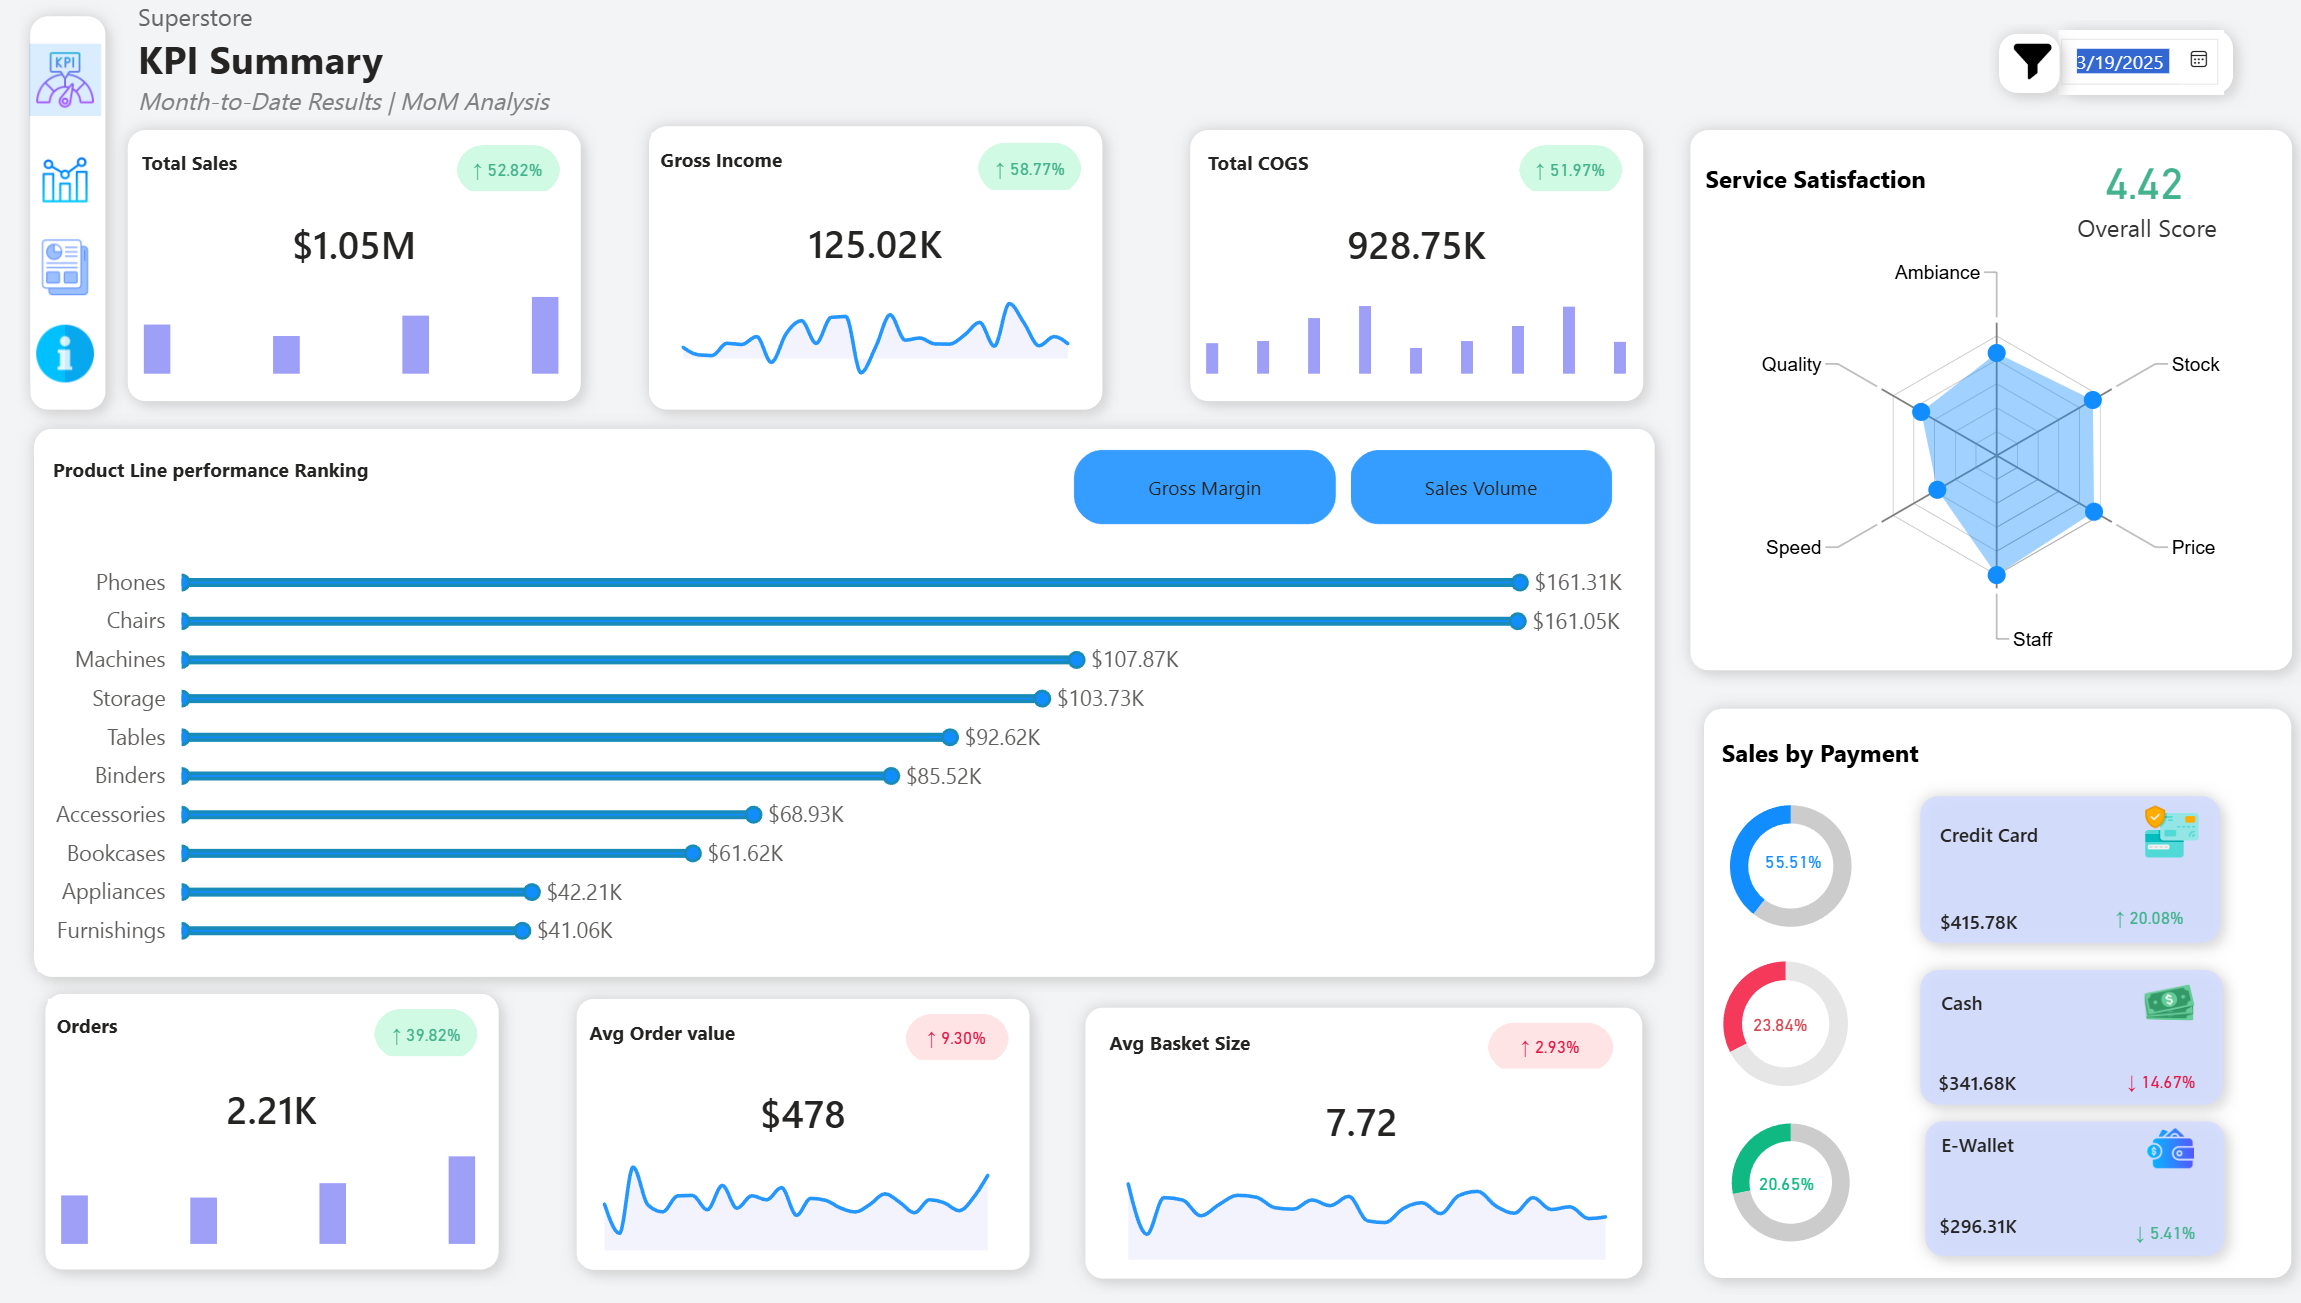

The page's visual inventory and layout, read from the dashboard file:
{"tool":"powerbi","page":{"name":"KPI Overview","canvas":[1280,720],"ordinal":0},"visuals":[{"type":"shape","title":"Shape_base","box":[8,0,59.7,236.1],"z":0,"group":"g14"},{"type":"shape","box":[1131.5,7.5,115.9,53.4],"z":0,"group":"g11"},{"type":"shape","box":[351.1,60.9,269.3,175.1],"z":0,"group":"g8"},{"type":"shape","box":[62.5,63.3,269.2,168.3],"z":0,"group":"g10"},{"type":"shape","box":[651.7,63.3,269.2,168.3],"z":0,"group":"g7"},{"type":"shape","box":[928.3,63.3,351.7,317.5],"z":0,"group":"g6"},{"type":"shape","box":[11.7,230.1,916.4,321.9],"z":0,"group":"g5"},{"type":"group","id":"g1","title":"Sales by Payment","box":[936,384,344,336],"z":0},{"type":"shape","box":[936,384,343.6,333.6],"z":0,"group":"g1"},{"type":"shape","box":[1055.8,432.3,184.1,99.3],"z":0,"group":"g9"},{"type":"shape","box":[1056,529,185.7,92.6],"z":0,"group":"g13"},{"type":"shape","box":[16.7,542,269.3,170.9],"z":0,"group":"g4"},{"type":"shape","box":[592.9,543.7,326.8,168.3],"z":0,"group":"g2"},{"type":"shape","box":[311,544.5,269.2,168.3],"z":0,"group":"g3"},{"type":"shape","box":[1058.4,612.4,183.9,92.6],"z":0,"group":"g12"},{"type":"slicer","fields":{"Values":["Date.Date"]},"box":[1041.5,16.7,191.8,35.9],"z":1000,"group":"g11"},{"type":"shape","box":[542.2,78.8,57.5,28.6],"z":1000,"group":"g8"},{"type":"shape","box":[253.5,80.5,57.5,27.5],"z":1000,"group":"g10"},{"type":"shape","box":[842.7,80.5,57.5,27.5],"z":1000,"group":"g7"},{"type":"textbox","box":[940.9,85.5,194.3,39.3],"z":1000,"group":"g6"},{"type":"actionButton","title":"Info","box":[16,176,40,40],"z":1000,"group":"g14"},{"type":"textbox","box":[26.4,247,466.6,37.8],"z":1000,"group":"g5"},{"type":"textbox","box":[949.8,403.3,189.8,40.9],"z":1000,"group":"g1"},{"type":"kpi","fields":{"TrendLine":["Date.Date.Variation.Date Hierarchy.Year"],"Indicator":["Orders.Payment Share Change"]},"box":[1163.4,496.3,56,24],"z":1000,"group":"g9"},{"type":"image","box":[1186.2,538.2,33.4,35.9],"z":1000,"group":"g13"},{"type":"group","id":"g2","title":"Avg Basket size KPI","box":[592.9,543.7,326.9,167.6],"z":1000},{"type":"shape","box":[207.8,559.5,57.5,27.9],"z":1000,"group":"g4"},{"type":"shape","box":[824.8,560.9,69.8,27.5],"z":1000,"group":"g2"},{"type":"shape","box":[502,561.7,57.5,27.5],"z":1000,"group":"g3"},{"type":"image","box":[1189,619.8,29.6,32.8],"z":1000,"group":"g12"},{"type":"shape","box":[1032.3,16.7,109.2,37.5],"z":2000,"group":"g11"},{"type":"cardVisual","fields":{"Data":["Orders.Gross Income"]},"box":[359.8,100.7,251.2,64.6],"z":2000,"group":"g8"},{"type":"cardVisual","fields":{"Data":["Orders.Total Sales"]},"box":[71.2,101.6,251,62.1],"z":2000,"group":"g10"},{"type":"cardVisual","fields":{"Data":["Orders.Total COGS"]},"box":[660.4,101.6,251,62.1],"z":2000,"group":"g7"},{"type":"textbox","box":[1115.7,112.2,150.3,29.2],"z":2000,"group":"g6"},{"type":"barChart","fields":{"Category":["Orders.Sub-Category"],"Y":["Orders.Selected Ranking Metric"]},"box":[23,294.7,885.2,245.4],"z":2000,"group":"g5"},{"type":"donutChart","fields":{"Y":["Orders.Payment Remainder %","Orders.Payment Volume %"]},"box":[947.3,438.2,92.1,84.3],"z":2000,"group":"g1"},{"type":"image","box":[1188.9,443.9,29.3,33.4],"z":2000,"group":"g9"},{"type":"cardVisual","fields":{"Data":["Orders.Total Sales"],"Rows":["Orders.Payment Method"]},"box":[1036.3,541,120.6,85.1],"z":2000,"group":"g13"},{"type":"group","id":"g3","title":"Avg Order value KPI","box":[311,544.5,269.3,167.6],"z":2000},{"type":"cardVisual","fields":{"Data":["Orders.Total Orders"]},"box":[25.4,580.9,251.2,63],"z":2000,"group":"g4"},{"type":"cardVisual","fields":{"Data":["Orders.Avg Basket Size"]},"box":[603.5,582,304.8,62.1],"z":2000,"group":"g2"},{"type":"cardVisual","fields":{"Data":["Orders.Avg Order Value"]},"box":[319.7,582.8,251,62.1],"z":2000,"group":"g3"},{"type":"cardVisual","fields":{"Data":["Orders.Total Sales"],"Rows":["Orders.Payment Method"]},"box":[1036.3,619.1,121.4,83.4],"z":2000,"group":"g12"},{"type":"shape","box":[1099.5,9.5,51.7,50.9],"z":3000,"group":"g11"},{"type":"kpi","title":"Overall Score","fields":{"Indicator":["Orders.Overall Score"],"TrendLine":["Date.Date.Variation.Date Hierarchy.Year"]},"box":[1115,79,148.6,44.8],"z":3000,"group":"g6"},{"type":"actionButton","title":"Region","box":[16,80,40,40],"z":3000,"group":"g14"},{"type":"clusteredColumnChart","fields":{"Y":["Orders.Total Sales"],"Category":["Date.Date.Variation.Date Hierarchy.Quarter"]},"box":[75.6,147.5,243,66.3],"z":3000,"group":"g10"},{"type":"clusteredColumnChart","fields":{"Y":["Orders.Total COGS"],"Category":["Date.Date.Variation.Date Hierarchy.Year","Date.Date.Variation.Date Hierarchy.Quarter"]},"box":[664.8,147.5,243,66.3],"z":3000,"group":"g7"},{"type":"areaChart","fields":{"Y":["Orders.Gross Income"],"Category":["Date.Date.Variation.Date Hierarchy.Year","Date.Date.Variation.Date Hierarchy.Quarter","Date.Date.Variation.Date Hierarchy.Month"]},"box":[364.2,148.5,243.2,69],"z":3000,"group":"g8"},{"type":"advancedSlicerVisual","fields":{"Values":["Chart Metrics.Metric Name"]},"box":[592.6,245.9,309,51.3],"z":3000,"group":"g5"},{"type":"cardVisual","fields":{"Data":["Orders.Total Sales"],"Rows":["Orders.Payment Method"]},"box":[1035.4,448,123.8,79.3],"z":3000,"group":"g9"},{"type":"donutChart","fields":{"Y":["Orders.Payment Remainder %","Orders.Payment Volume %"]},"box":[947.3,522.4,86.4,90.1],"z":3000,"group":"g1"},{"type":"group","id":"g4","title":"Orders KPI","box":[16.7,542,269.3,170.9],"z":3000},{"type":"textbox","box":[27.2,553.9,110.9,27.6],"z":3000,"group":"g4"},{"type":"kpi","fields":{"TrendLine":["Date.Date.Variation.Date Hierarchy.Year"],"Indicator":["Orders.Payment Share Change"]},"box":[1173.3,591,49.7,18.4],"z":3000,"group":"g13"},{"type":"areaChart","fields":{"Category":["Date.Date.Variation.Date Hierarchy.Year","Date.Date.Variation.Date Hierarchy.Quarter","Date.Date.Variation.Date Hierarchy.Month"],"Y":["Orders.Avg Basket Size"]},"box":[611.1,630.7,294.7,66.7],"z":3000,"group":"g2"},{"type":"areaChart","fields":{"Category":["Date.Date.Variation.Date Hierarchy.Year","Date.Date.Variation.Date Hierarchy.Quarter","Date.Date.Variation.Date Hierarchy.Month"],"Y":["Orders.Avg Order Value"]},"box":[321,632.8,242.5,66.7],"z":3000,"group":"g3"},{"type":"kpi","fields":{"TrendLine":["Date.Date.Variation.Date Hierarchy.Year"],"Indicator":["Orders.Payment Share Change"]},"box":[1175.8,673.8,50.1,18],"z":3000,"group":"g12"},{"type":"image","box":[1114.5,18.5,25,29.2],"z":4000,"group":"g11"},{"type":"textbox","box":[361.6,73.1,110.9,28.2],"z":4000,"group":"g8"},{"type":"textbox","box":[73,75.1,110.8,27.2],"z":4000,"group":"g10"},{"type":"textbox","box":[662.2,75.1,110.8,27.2],"z":4000,"group":"g7"},{"type":"actionButton","title":"Order","box":[16,128,40,40],"z":4000,"group":"g14"},{"type":"RadarChart1446119667547","fields":{"Category":["Satisfaction Dimensions.Dimension"],"Y":["Orders.Radar Chart Values"]},"box":[948.8,140.4,315.6,224.6],"z":4000,"group":"g6"},{"type":"group","id":"g5","title":"Product LIne Distribution KPI","box":[11.7,230.1,916.4,321.9],"z":4000},{"type":"textbox","box":[605.7,555.5,134.5,27.2],"z":4000,"group":"g2"},{"type":"textbox","box":[321.5,556.3,110.8,27.2],"z":4000,"group":"g3"},{"type":"kpi","fields":{"TrendLine":["Date.Date.Variation.Date Hierarchy.Year"],"Indicator":["Orders.Orders YoY %"]},"box":[210.4,563.7,52.5,18.6],"z":4000,"group":"g4"},{"type":"donutChart","fields":{"Y":["Orders.Payment Remainder %","Orders.Payment Volume %"]},"box":[948.4,614.8,89.2,81.7],"z":4000,"group":"g1"},{"type":"actionButton","title":"KPI","box":[16,24,40,40],"z":4500,"group":"g14"},{"type":"group","id":"g6","title":"Service Satisfacation KPI","box":[928.3,63.3,351.7,317.5],"z":5000},{"type":"kpi","fields":{"TrendLine":["Date.Date.Variation.Date Hierarchy.Year"],"Indicator":["Orders.Gross Income YoY %"]},"box":[544.8,83.2,52.5,19.1],"z":5000,"group":"g8"},{"type":"kpi","fields":{"Indicator":["Orders.Sales YoY %"],"TrendLine":["Date.Date.Variation.Date Hierarchy.Year"]},"box":[256.1,84.7,52.5,18.3],"z":5000,"group":"g10"},{"type":"kpi","fields":{"Indicator":["Orders.COGS YoY %"],"TrendLine":["Date.Date.Variation.Date Hierarchy.Year"]},"box":[845.3,84.7,52.5,18.3],"z":5000,"group":"g7"},{"type":"kpi","fields":{"TrendLine":["Date.Date.Variation.Date Hierarchy.Year"],"Indicator":["Orders.Payment Volume %"]},"box":[976.6,467.4,35,21.7],"z":5000,"group":"g1"},{"type":"kpi","fields":{"TrendLine":["Date.Date.Variation.Date Hierarchy.Year"],"Indicator":["Orders.Basket Size YoY %"]},"box":[828,565.1,63.7,18.3],"z":5000,"group":"g2"},{"type":"kpi","fields":{"TrendLine":["Date.Date.Variation.Date Hierarchy.Year"],"Indicator":["Orders.AOV YoY %"]},"box":[504.6,565.9,52.5,18.3],"z":5000,"group":"g3"},{"type":"clusteredColumnChart","fields":{"Y":["Orders.Total Orders"],"Category":["Date.Date.Variation.Date Hierarchy.Quarter"]},"box":[30,627.5,242.7,68.5],"z":5000,"group":"g4"},{"type":"group","id":"g7","title":"Total COGS KPI","box":[651.7,63.3,269.2,168.3],"z":6000},{"type":"kpi","fields":{"TrendLine":["Date.Date.Variation.Date Hierarchy.Year"],"Indicator":["Orders.Payment Volume %"]},"box":[968.5,557.5,37.5,21.7],"z":6000,"group":"g1"},{"type":"group","id":"g8","title":"Gross Income KPI","box":[351.1,60.9,269.3,175.1],"z":7000},{"type":"group","id":"g9","title":"Credit card","box":[1035.4,432.3,204.5,99.3],"z":7000,"group":"g1"},{"type":"group","id":"g10","title":"Total Sale KPI","box":[62.5,63.3,269.2,168.3],"z":8000},{"type":"kpi","fields":{"TrendLine":["Date.Date.Variation.Date Hierarchy.Year"],"Indicator":["Orders.Payment Volume %"]},"box":[972,643.1,37.5,25.9],"z":8000,"group":"g1"},{"type":"group","id":"g11","title":"Date","box":[1032.3,7.5,215.1,53.4],"z":9000},{"type":"group","id":"g12","title":"Cash","box":[1036.3,612.4,206.1,92.6],"z":9000,"group":"g1"},{"type":"textbox","title":"Title","box":[72,0,256,64],"z":10000},{"type":"group","id":"g13","title":"E wallet","box":[1036.3,529,205.3,97.6],"z":10000,"group":"g1"},{"type":"group","id":"g14","title":"Navigation bar","box":[8,0,56,240],"z":12000}]}

Visuals, with their boxes in screenshot pixels (x1, y1, x2, y2), scaled from the page's 1280x720 canvas onto the 2301x1303 screenshot:
"Shape_base" shape: bbox=[14, 0, 122, 427]
shape: bbox=[2034, 14, 2242, 110]
shape: bbox=[631, 110, 1115, 427]
shape: bbox=[112, 115, 596, 419]
shape: bbox=[1172, 115, 1655, 419]
shape: bbox=[1669, 115, 2300, 689]
shape: bbox=[21, 416, 1668, 999]
"Sales by Payment" group: bbox=[1683, 695, 2300, 1302]
shape: bbox=[1683, 695, 2300, 1299]
shape: bbox=[1898, 782, 2229, 962]
shape: bbox=[1898, 957, 2232, 1125]
shape: bbox=[30, 981, 514, 1290]
shape: bbox=[1066, 984, 1653, 1289]
shape: bbox=[559, 985, 1043, 1290]
shape: bbox=[1903, 1108, 2233, 1276]
slicer - Date.Date: bbox=[1872, 30, 2217, 95]
shape: bbox=[975, 143, 1078, 194]
shape: bbox=[456, 146, 559, 195]
shape: bbox=[1515, 146, 1618, 195]
textbox: bbox=[1691, 155, 2041, 226]
"Info" actionButton: bbox=[29, 319, 101, 391]
textbox: bbox=[47, 447, 886, 515]
textbox: bbox=[1707, 730, 2049, 804]
kpi - Date.Date.Variation.Date Hierarchy.Year x Orders.Payment Share Change: bbox=[2091, 898, 2192, 942]
image: bbox=[2132, 974, 2192, 1039]
"Avg Basket size KPI" group: bbox=[1066, 984, 1653, 1287]
shape: bbox=[374, 1013, 477, 1063]
shape: bbox=[1483, 1015, 1608, 1065]
shape: bbox=[902, 1017, 1006, 1066]
image: bbox=[2137, 1122, 2191, 1181]
shape: bbox=[1856, 30, 2052, 98]
cardVisual - Orders.Gross Income: bbox=[647, 182, 1098, 299]
cardVisual - Orders.Total Sales: bbox=[128, 184, 579, 296]
cardVisual - Orders.Total COGS: bbox=[1187, 184, 1638, 296]
textbox: bbox=[2006, 203, 2276, 256]
barChart - Orders.Sub-Category x Orders.Selected Ranking Metric: bbox=[41, 533, 1633, 977]
donutChart - Orders.Payment Remainder % x Orders.Payment Volume %: bbox=[1703, 793, 1868, 946]
image: bbox=[2137, 803, 2190, 864]
cardVisual - Orders.Total Sales x Orders.Payment Method: bbox=[1863, 979, 2080, 1133]
"Avg Order value KPI" group: bbox=[559, 985, 1043, 1289]
cardVisual - Orders.Total Orders: bbox=[46, 1051, 497, 1165]
cardVisual - Orders.Avg Basket Size: bbox=[1085, 1053, 1633, 1166]
cardVisual - Orders.Avg Order Value: bbox=[575, 1055, 1026, 1167]
cardVisual - Orders.Total Sales x Orders.Payment Method: bbox=[1863, 1120, 2081, 1271]
shape: bbox=[1977, 17, 2069, 109]
"Overall Score" kpi: bbox=[2004, 143, 2272, 224]
"Region" actionButton: bbox=[29, 145, 101, 217]
clusteredColumnChart - Orders.Total Sales x Date.Date.Variation.Date Hierarchy.Quarter: bbox=[136, 267, 573, 387]
clusteredColumnChart - Orders.Total COGS x Date.Date.Variation.Date Hierarchy.Year: bbox=[1195, 267, 1632, 387]
areaChart - Orders.Gross Income x Date.Date.Variation.Date Hierarchy.Year: bbox=[655, 269, 1092, 394]
advancedSlicerVisual - Chart Metrics.Metric Name: bbox=[1065, 445, 1621, 538]
cardVisual - Orders.Total Sales x Orders.Payment Method: bbox=[1861, 811, 2084, 954]
donutChart - Orders.Payment Remainder % x Orders.Payment Volume %: bbox=[1703, 945, 1858, 1108]
"Orders KPI" group: bbox=[30, 981, 514, 1290]
textbox: bbox=[49, 1002, 248, 1052]
kpi - Date.Date.Variation.Date Hierarchy.Year x Orders.Payment Share Change: bbox=[2109, 1070, 2199, 1103]
areaChart - Date.Date.Variation.Date Hierarchy.Year x Date.Date.Variation.Date Hierarchy.Quarter: bbox=[1099, 1141, 1628, 1262]
areaChart - Date.Date.Variation.Date Hierarchy.Year x Date.Date.Variation.Date Hierarchy.Quarter: bbox=[577, 1145, 1013, 1266]
kpi - Date.Date.Variation.Date Hierarchy.Year x Orders.Payment Share Change: bbox=[2114, 1219, 2204, 1252]
image: bbox=[2003, 33, 2048, 86]
textbox: bbox=[650, 132, 849, 183]
textbox: bbox=[131, 136, 330, 185]
textbox: bbox=[1190, 136, 1390, 185]
"Order" actionButton: bbox=[29, 232, 101, 304]
RadarChart1446119667547 - Satisfaction Dimensions.Dimension x Orders.Radar Chart Values: bbox=[1706, 254, 2273, 661]
"Product LIne Distribution KPI" group: bbox=[21, 416, 1668, 999]
textbox: bbox=[1089, 1005, 1331, 1055]
textbox: bbox=[578, 1007, 777, 1056]
kpi - Date.Date.Variation.Date Hierarchy.Year x Orders.Orders YoY %: bbox=[378, 1020, 473, 1054]
donutChart - Orders.Payment Remainder % x Orders.Payment Volume %: bbox=[1705, 1113, 1865, 1260]
"KPI" actionButton: bbox=[29, 43, 101, 116]
"Service Satisfacation KPI" group: bbox=[1669, 115, 2300, 689]
kpi - Date.Date.Variation.Date Hierarchy.Year x Orders.Gross Income YoY %: bbox=[979, 151, 1074, 185]
kpi - Orders.Sales YoY % x Date.Date.Variation.Date Hierarchy.Year: bbox=[460, 153, 555, 186]
kpi - Orders.COGS YoY % x Date.Date.Variation.Date Hierarchy.Year: bbox=[1520, 153, 1614, 186]
kpi - Date.Date.Variation.Date Hierarchy.Year x Orders.Payment Volume %: bbox=[1756, 846, 1819, 885]
kpi - Date.Date.Variation.Date Hierarchy.Year x Orders.Basket Size YoY %: bbox=[1488, 1023, 1603, 1056]
kpi - Date.Date.Variation.Date Hierarchy.Year x Orders.AOV YoY %: bbox=[907, 1024, 1001, 1057]
clusteredColumnChart - Orders.Total Orders x Date.Date.Variation.Date Hierarchy.Quarter: bbox=[54, 1136, 490, 1260]
"Total COGS KPI" group: bbox=[1172, 115, 1655, 419]
kpi - Date.Date.Variation.Date Hierarchy.Year x Orders.Payment Volume %: bbox=[1741, 1009, 1808, 1048]
"Gross Income KPI" group: bbox=[631, 110, 1115, 427]
"Credit card" group: bbox=[1861, 782, 2229, 962]
"Total Sale KPI" group: bbox=[112, 115, 596, 419]
kpi - Date.Date.Variation.Date Hierarchy.Year x Orders.Payment Volume %: bbox=[1747, 1164, 1815, 1211]
"Date" group: bbox=[1856, 14, 2242, 110]
"Cash" group: bbox=[1863, 1108, 2233, 1276]
"Title" textbox: bbox=[129, 0, 590, 116]
"E wallet" group: bbox=[1863, 957, 2232, 1134]
"Navigation bar" group: bbox=[14, 0, 115, 434]
